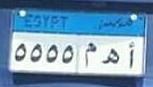5: (12, 41, 28, 63), (30, 40, 44, 64), (61, 42, 74, 66), (45, 44, 59, 63)
alif: (127, 42, 137, 70)
haa: (101, 47, 120, 67)
meem: (84, 39, 97, 67)
